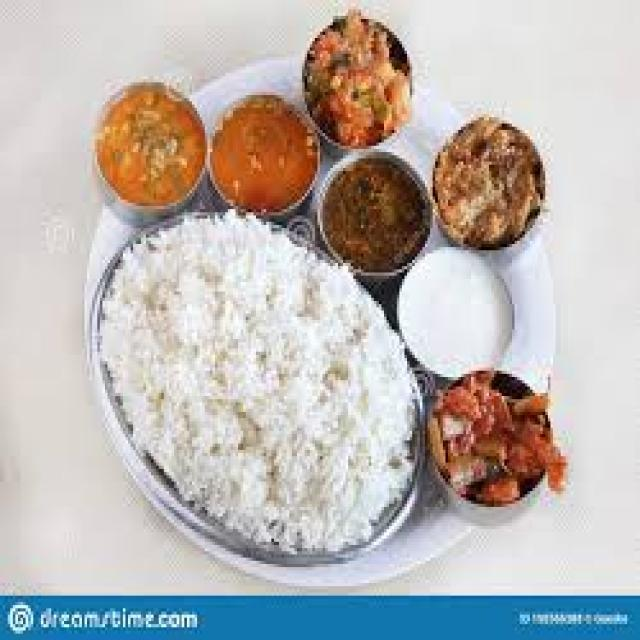curd: (393, 237, 523, 378)
dal: (92, 94, 212, 207)
rice: (193, 253, 418, 549)
sambar-rasam: (318, 149, 431, 276)
veg-fry: (423, 378, 559, 515), (445, 381, 558, 504)
